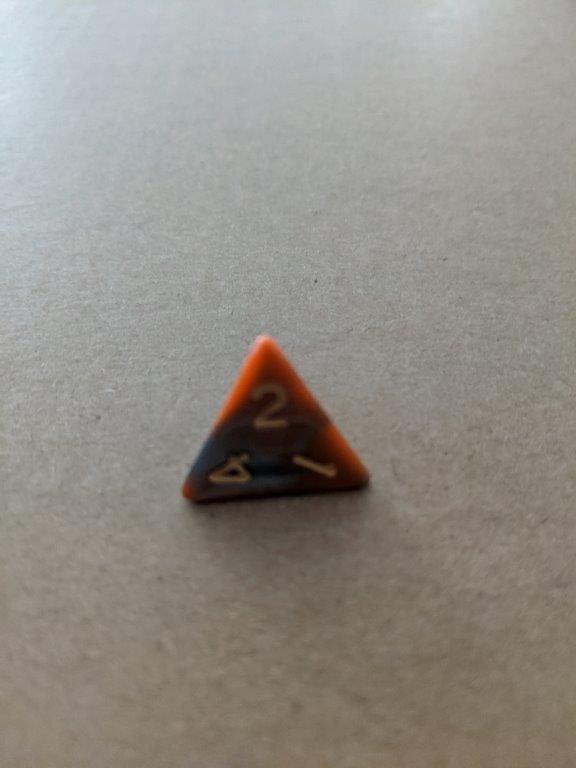d4-2: (175, 332, 373, 512)
